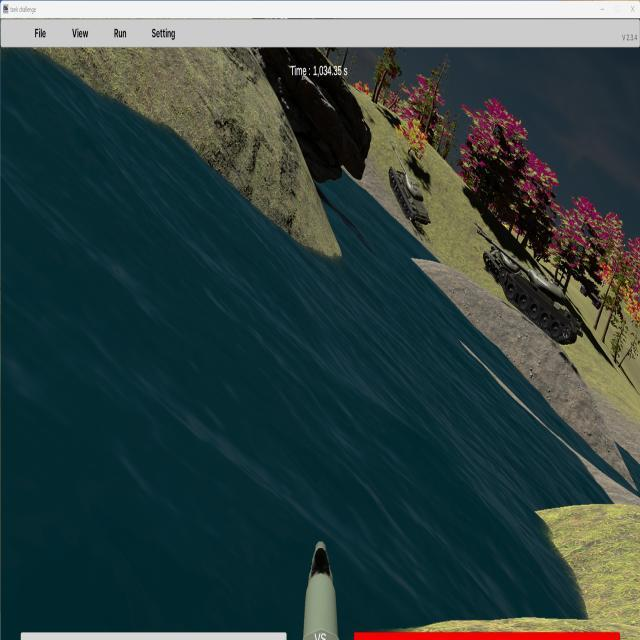Tank: (476, 233, 586, 345), (474, 222, 533, 300), (474, 222, 529, 298), (388, 138, 431, 227)
